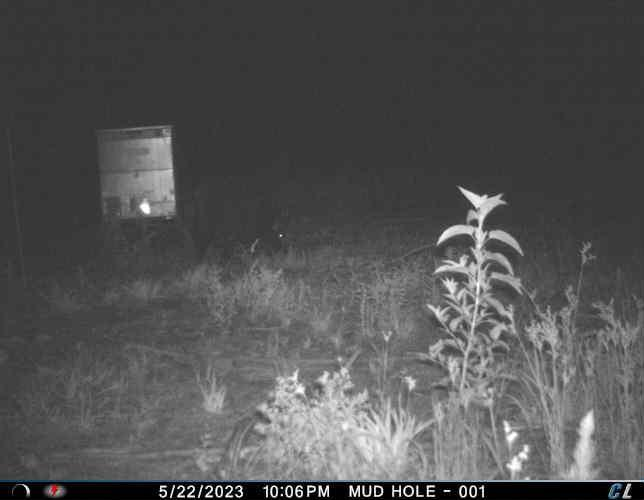Hog: (184, 184, 289, 266)
